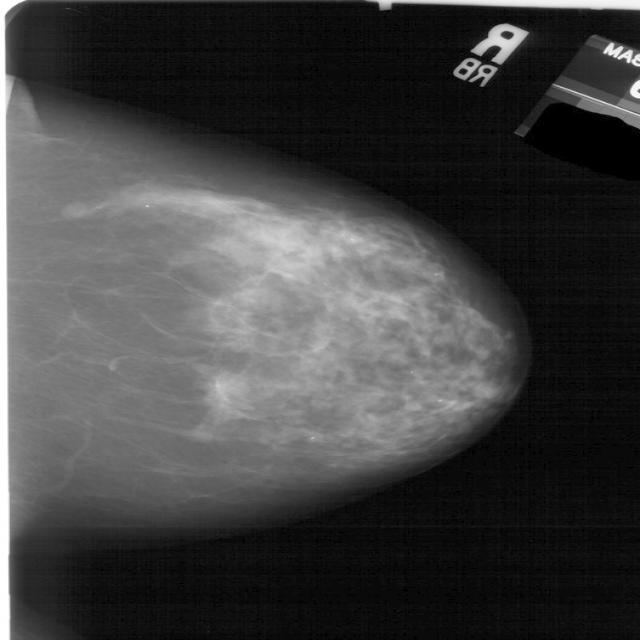tumour: (57, 198, 96, 216)
